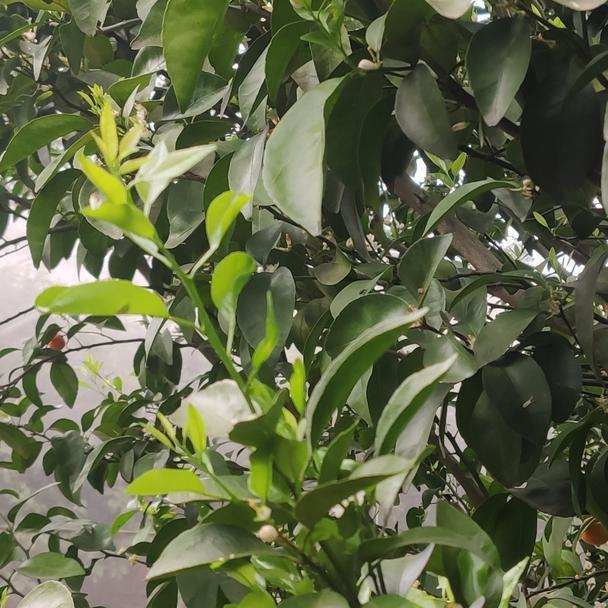shoot: (49, 124, 241, 345), (133, 413, 252, 502)
